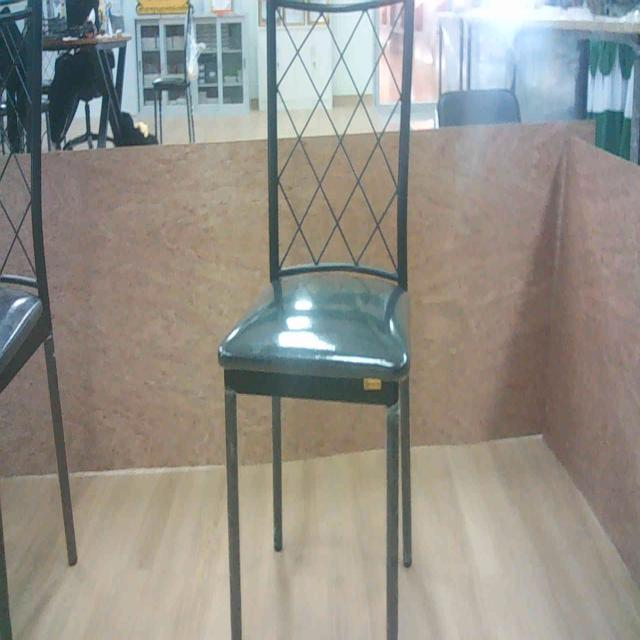emtpy: (216, 0, 419, 640)
